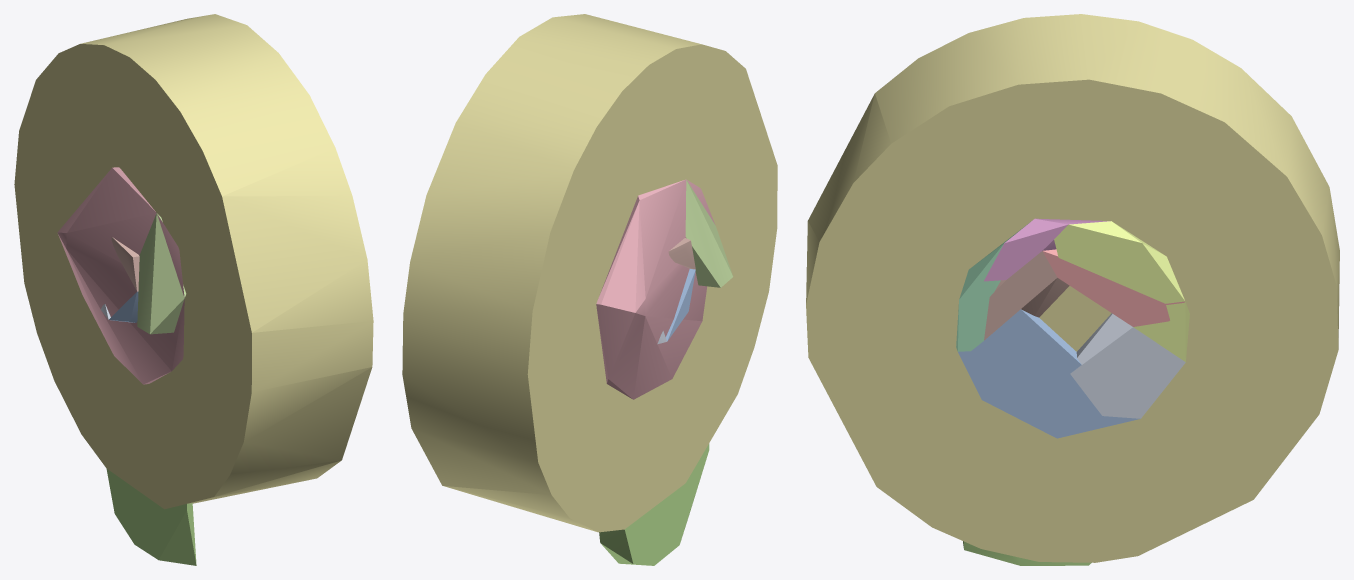
3 views of the same model, side by side, from view 1: azimuth 30°, elevation 25°; view 2: azimuth 150°, elevation 25°; view 3: azimuth 270°, elevation 25° (orthographic). The views are drawn at different scales.
Visible parts, largest first — view 1: Right_ForceTorqueSensor; view 2: Right_ForceTorqueSensor; view 3: Right_ForceTorqueSensor.
Boxes of the visible parts, x1,y1,x2,y2 form: Right_ForceTorqueSensor: (14, 14, 373, 565); Right_ForceTorqueSensor: (402, 14, 777, 565); Right_ForceTorqueSensor: (806, 14, 1339, 565).
Bounding box in the file's own units: 0.0587 × 0.1608 × 0.1441.
